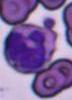N: (2, 24, 56, 74)
